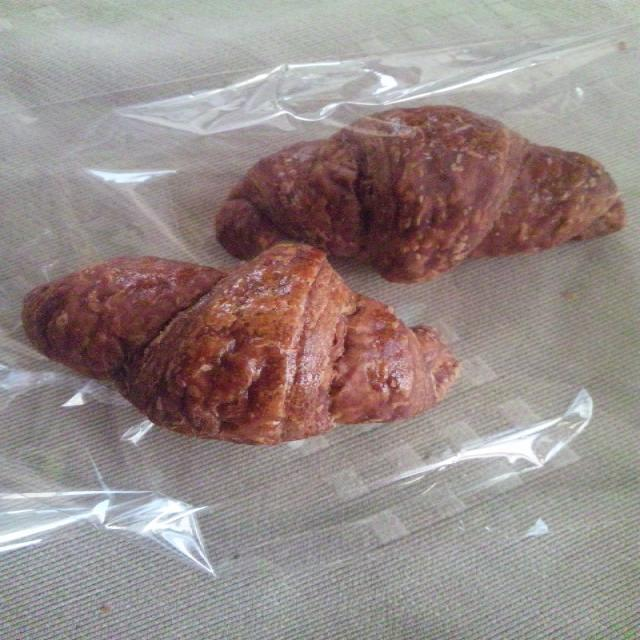Croissant: (14, 244, 482, 442), (211, 96, 633, 284)
